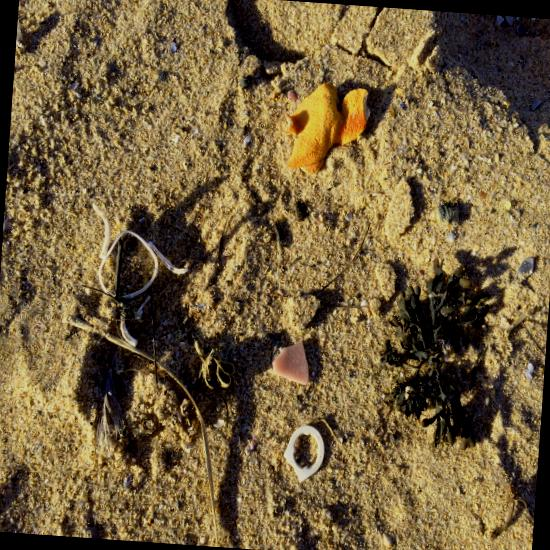Food waste: (285, 82, 367, 174)
Other plastic bottle: (92, 203, 188, 347), (101, 233, 155, 296), (283, 425, 324, 482), (272, 340, 308, 385)
